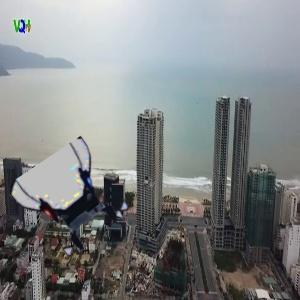drone: (24, 152, 125, 253)
